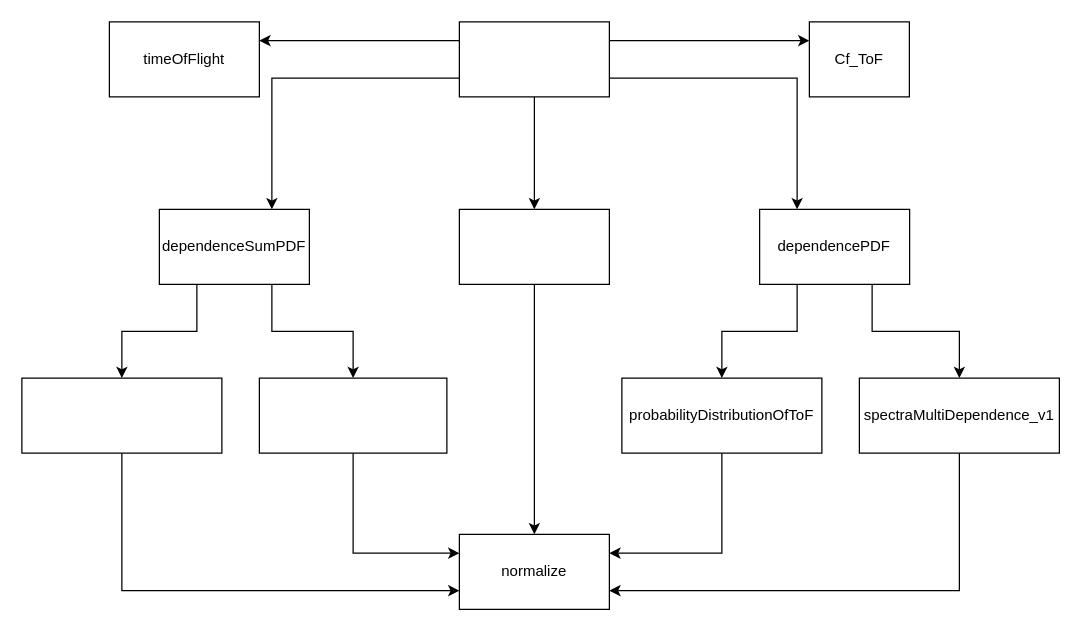
The diagram is 1081 pixels wide and 631 high, and some of its shapes have lost their labels. The shapes that lost their labels are listed below. From the top down, each one's centre as x and y in pixels, then its label:
At pixel 533 59: "Masterscript".
At pixel 533 246: "simAndExpToF".
At pixel 121 415: "spectraMultiDependence_v2".
At pixel 352 415: "probDistributionOfToFSum".
